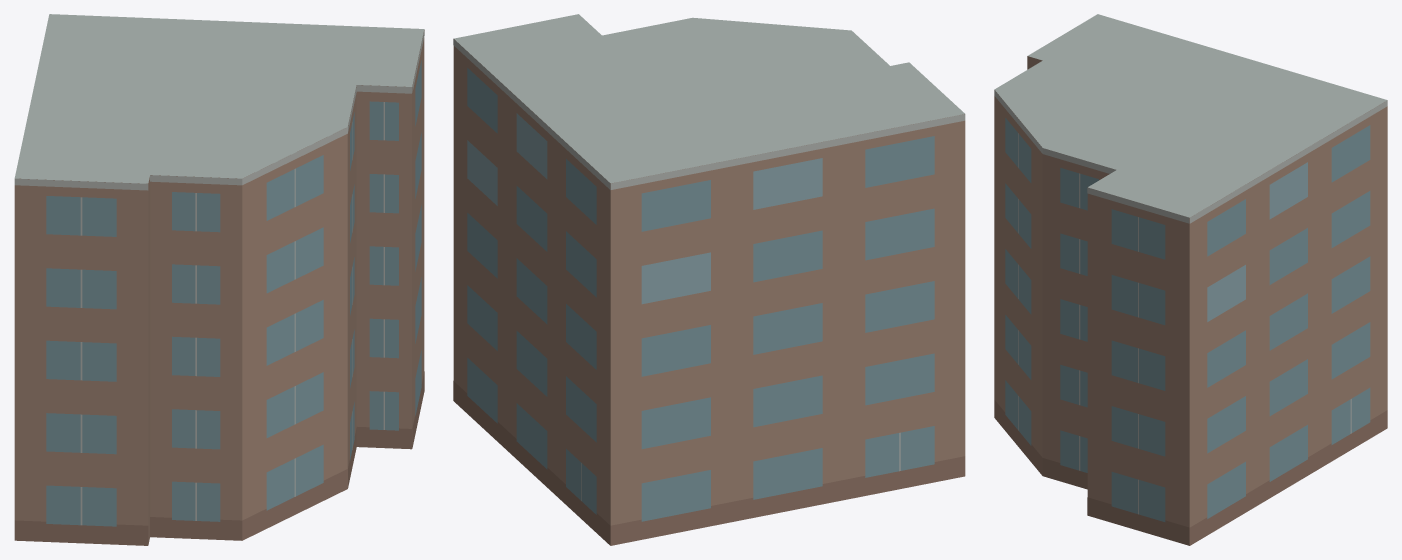
Rendered from survey-upis-32784997.glb.
The picture shows the model from 3 angles, left to right: view 1: azimuth 30°, elevation 25°; view 2: azimuth 150°, elevation 25°; view 3: azimuth 270°, elevation 25°; orthographic projection. The views are drawn at different scales.
Parts seen in each view (by area): view 1: survey-upis-32784997.tmp; view 2: survey-upis-32784997.tmp; view 3: survey-upis-32784997.tmp.
Boxes of the visible parts, bbox=[...] form: survey-upis-32784997.tmp: bbox=[14, 14, 424, 545]; survey-upis-32784997.tmp: bbox=[453, 14, 965, 545]; survey-upis-32784997.tmp: bbox=[994, 14, 1387, 545].
Bounding box in the file's own units: 17.51 × 13.15 × 14.29.
